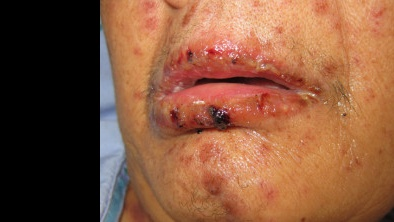SJS-TEN: (131, 19, 336, 150), (163, 139, 288, 221)
